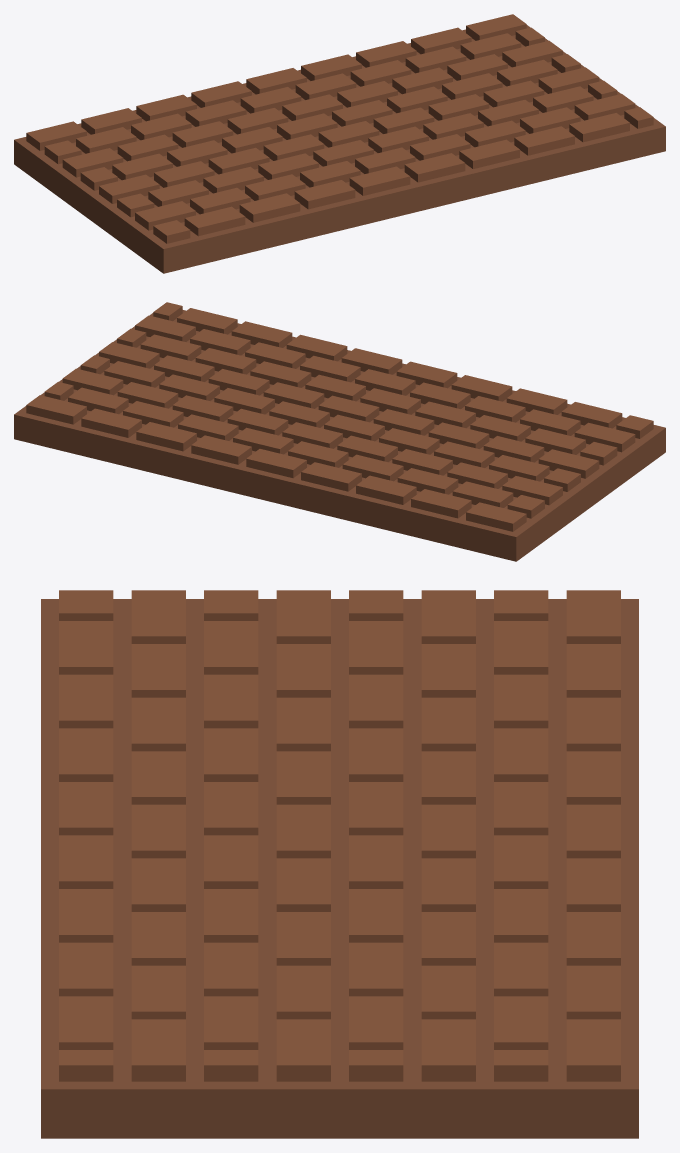
The model's file is roofpanel1.fbx.
3 views of the same model, one above another, from view 1: azimuth 30°, elevation 25°; view 2: azimuth 150°, elevation 25°; view 3: azimuth 270°, elevation 25° (orthographic). The views are drawn at different scales.
Parts seen in each view (by area): view 1: roofpanel1; view 2: roofpanel1; view 3: roofpanel1.
Boxes of the visible parts, x1,y1,x2,y2 form: roofpanel1: [14, 14, 665, 273]; roofpanel1: [14, 302, 665, 561]; roofpanel1: [41, 590, 638, 1138].
Size of the model in its own units: 64 by 4 by 33.
Materials: 1 (1 with a texture image).
